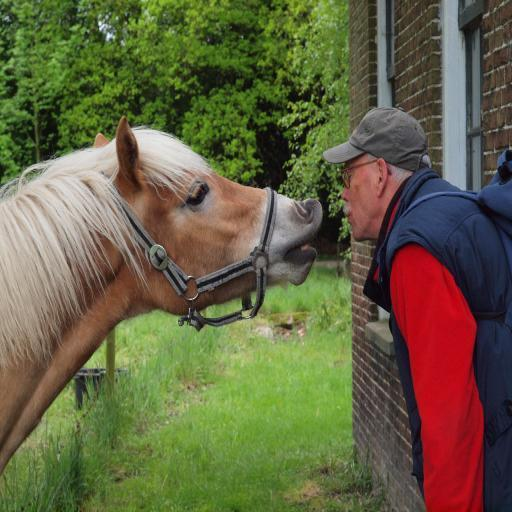horse: (0, 110, 323, 470)
